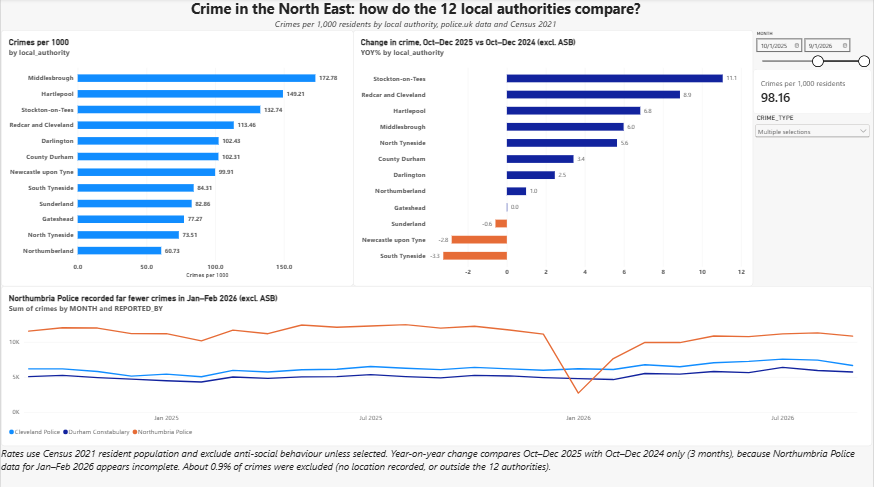

Layout of this report page (visuals, bound fields, positions):
{"tool":"powerbi","page":{"name":"Page 1","canvas":[1920,1080],"ordinal":0},"visuals":[{"type":"slicer","fields":{"Values":["vw_crime_monthly.MONTH"]},"box":[1657.5,70.5,261.6,86.3],"z":0},{"type":"slicer","fields":{"Values":["vw_crime_monthly.CRIME_TYPE"]},"box":[1657.5,255.7,261.6,83.7],"z":1000},{"type":"clusteredBarChart","fields":{"Category":["vw_population_la.local_authority"],"Y":["vw_crime_monthly.Crimes per 1000"]},"box":[0,70.6,776.9,565],"z":2000},{"type":"cardVisual","title":"Crimes per 1,000 residents, Oct 2025 – Sep 2026 (excl. ASB)","fields":{"Data":["vw_crime_monthly.Crimes per 1000"]},"box":[1657.5,156.5,261.6,99.4],"z":3000},{"type":"clusteredBarChart","title":"Change in crime, Oct–Dec 2025 vs Oct–Dec 2024 (excl. ASB)","fields":{"Category":["vw_population_la.local_authority"],"Y":["vw_crime_monthly.YOY%"]},"box":[776.9,70.6,881.5,565],"z":4000},{"type":"lineChart","title":"Northumbria Police recorded far fewer crimes in Jan–Feb 2026 (excl. ASB)","fields":{"Category":["vw_by_force.MONTH"],"Series":["vw_by_force.REPORTED_BY"],"Y":["Sum(vw_by_force.crimes)"]},"box":[0,635.6,1920,353.1],"z":5000},{"type":"textbox","box":[400.2,0,1025.4,70.6],"z":6000},{"type":"textbox","box":[0,989.6,1919.8,90.4],"z":7000}]}

Visuals, with their boxes in screenshot pixels (x1, y1, x2, y2), scaled from the page's 1920x1080 canvas onto the 874x487 screenshot:
slicer - vw_crime_monthly.MONTH: (755,32,873,71)
slicer - vw_crime_monthly.CRIME_TYPE: (755,115,873,153)
clusteredBarChart - vw_population_la.local_authority x vw_crime_monthly.Crimes per 1000: (0,32,354,287)
"Crimes per 1,000 residents, Oct 2025 – Sep 2026 (excl. ASB)" cardVisual: (755,71,873,115)
"Change in crime, Oct–Dec 2025 vs Oct–Dec 2024 (excl. ASB)" clusteredBarChart: (354,32,755,287)
"Northumbria Police recorded far fewer crimes in Jan–Feb 2026 (excl. ASB)" lineChart: (0,287,873,446)
textbox: (182,0,649,32)
textbox: (0,446,873,486)
